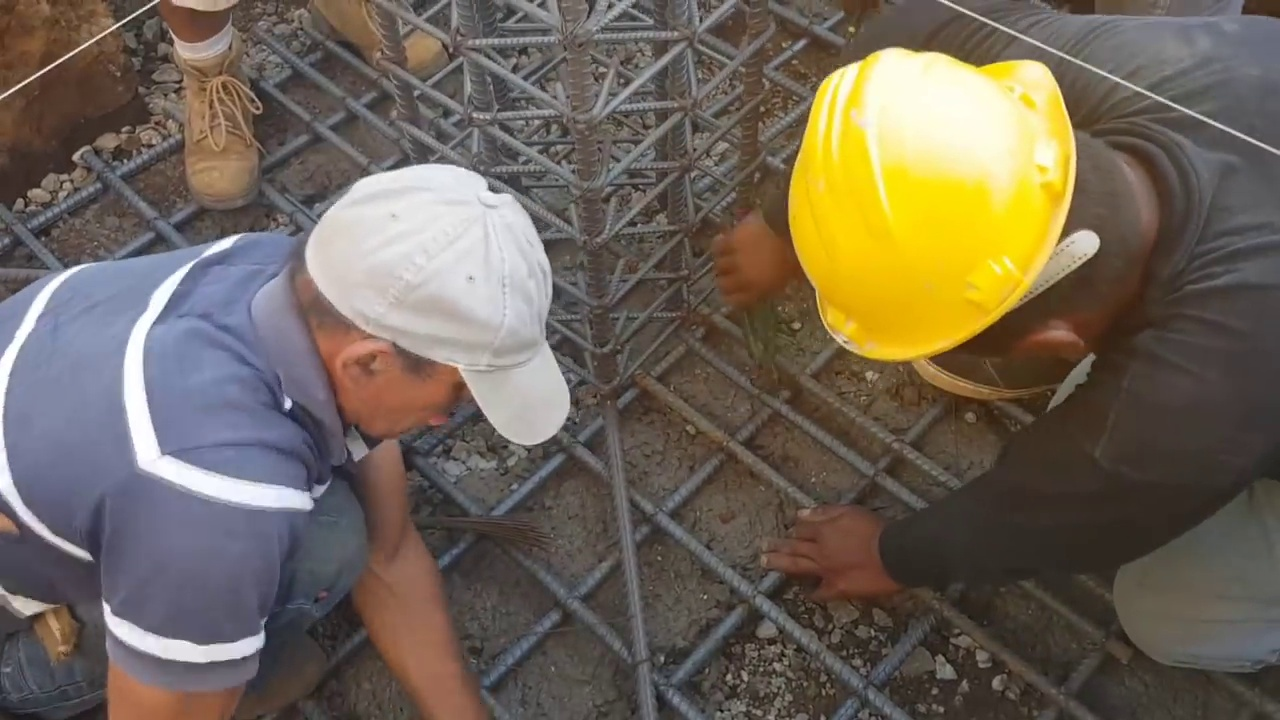helmet: (779, 42, 1102, 366)
helmet-off: (289, 162, 574, 446)
helmet-on: (778, 36, 1172, 400)
person: (709, 0, 1280, 666), (0, 162, 578, 719)
